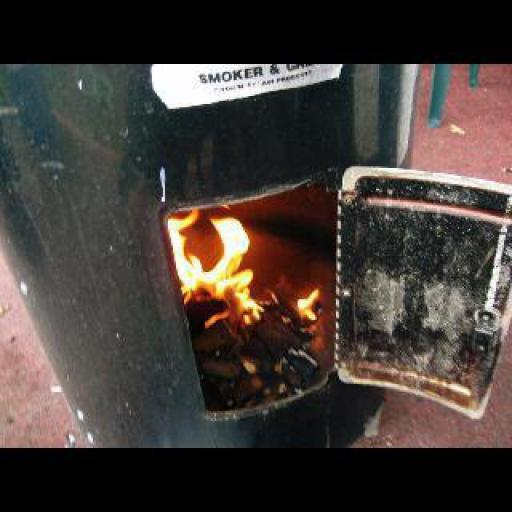smoke: (166, 198, 324, 332)
